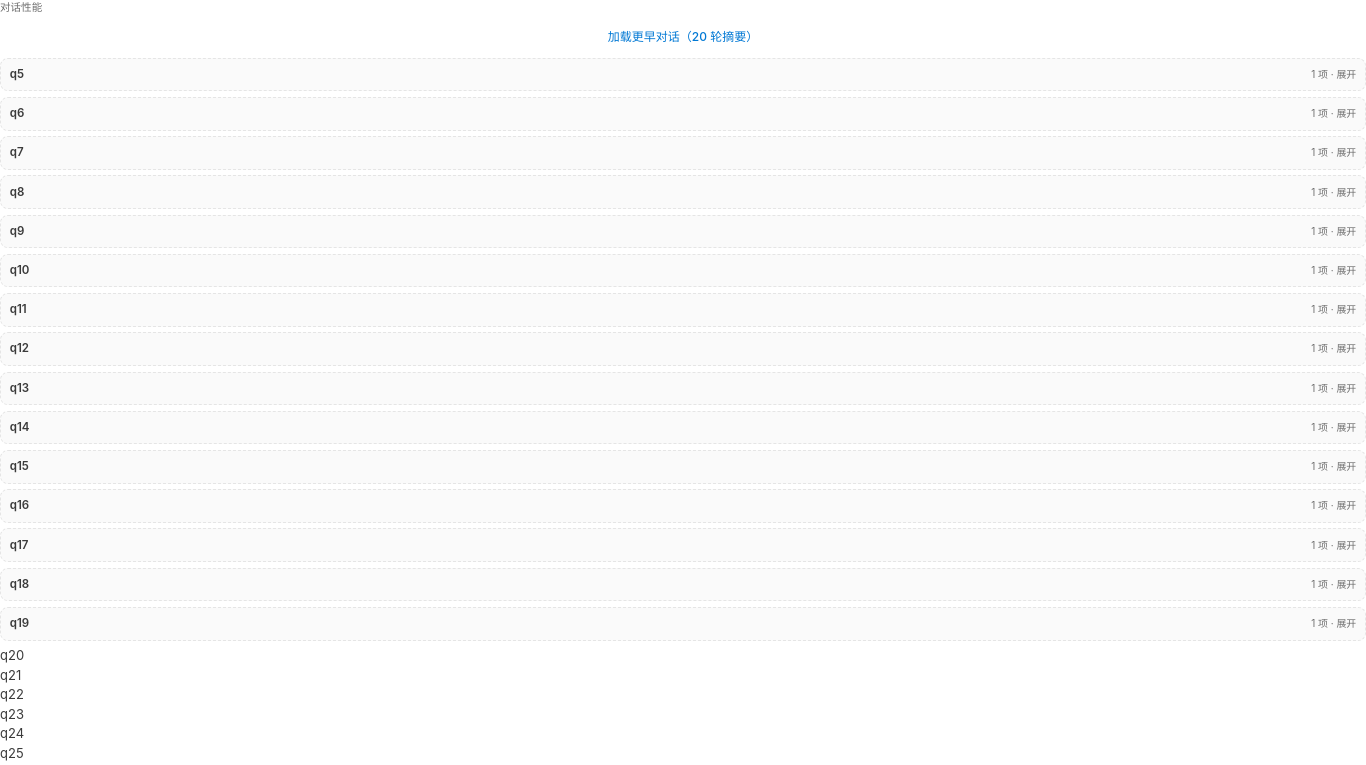
Scenario: ChatThreadViewport › hides load-more after expanding cold pages
Click the button "加载更早对话（20 轮摘要）": (683, 36) 608,27 -> 758,44
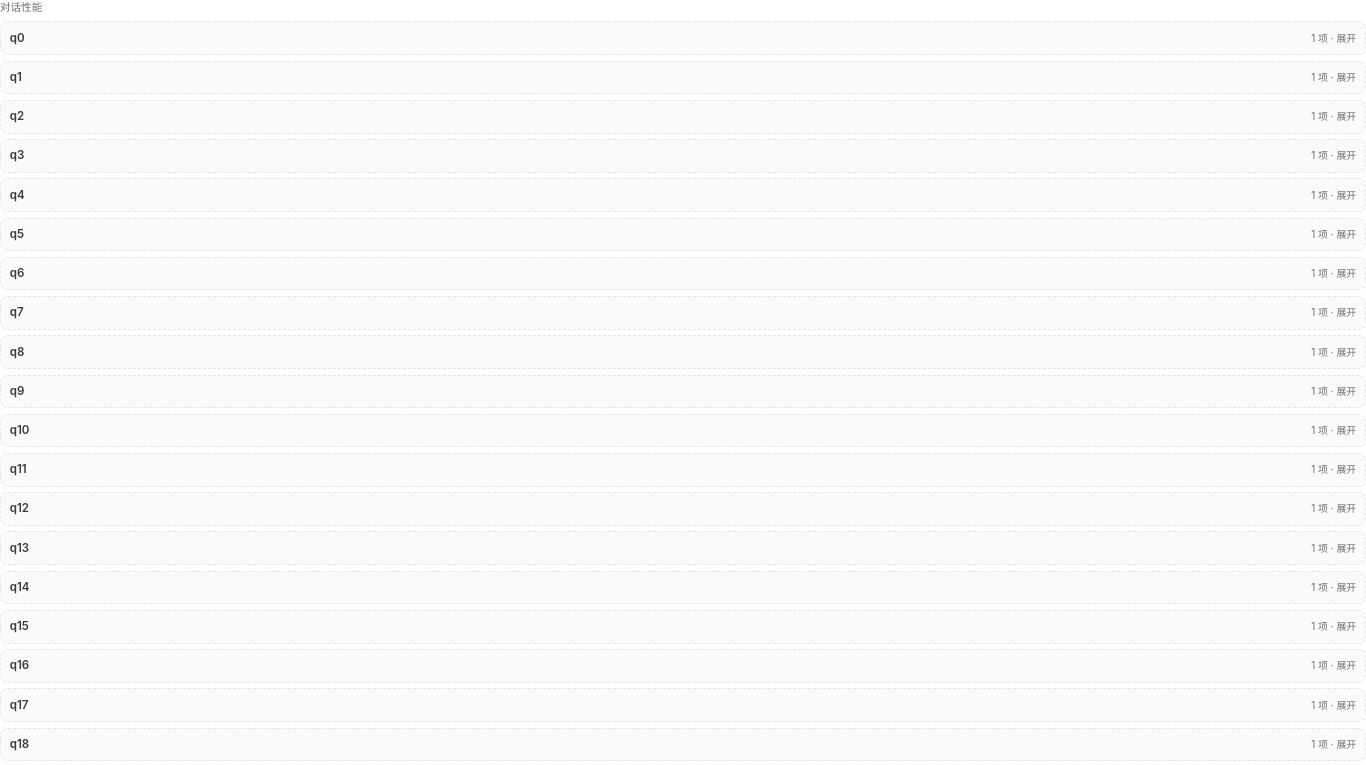
Check: the button "加载更早对话" is gone
